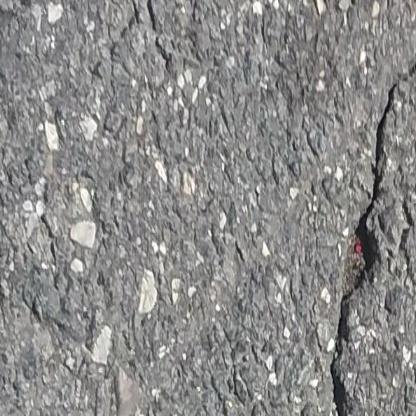Cracks: (315, 52, 416, 416), (391, 0, 416, 109)
